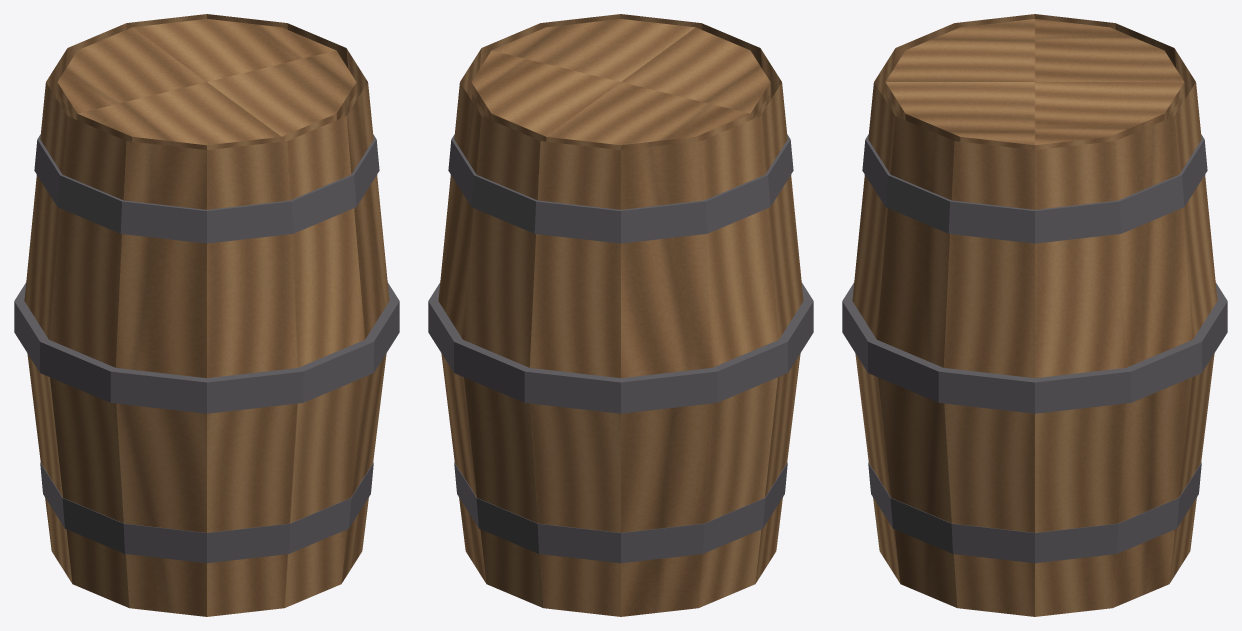
Rendered from Barrel_Western_Wooden.fbx.
The picture shows the model from 3 angles, left to right: view 1: azimuth 30°, elevation 25°; view 2: azimuth 150°, elevation 25°; view 3: azimuth 270°, elevation 25°; orthographic projection.
Parts seen in each view (by area): view 1: Barrel_Western_Wooden_Body_Staves, Barrel_Western_Wooden_Lid_Top, Barrel_Western_Wooden_Hoop_Mid, Barrel_Western_Wooden_Hoop_Top, Barrel_Western_Wooden_Hoop_Bottom; view 2: Barrel_Western_Wooden_Body_Staves, Barrel_Western_Wooden_Lid_Top, Barrel_Western_Wooden_Hoop_Mid, Barrel_Western_Wooden_Hoop_Top, Barrel_Western_Wooden_Hoop_Bottom; view 3: Barrel_Western_Wooden_Body_Staves, Barrel_Western_Wooden_Lid_Top, Barrel_Western_Wooden_Hoop_Mid, Barrel_Western_Wooden_Hoop_Top, Barrel_Western_Wooden_Hoop_Bottom.
Part boxes in pixels (<box>): Barrel_Western_Wooden_Body_Staves: <box>24,14,389,616</box>; Barrel_Western_Wooden_Lid_Top: <box>57,19,356,149</box>; Barrel_Western_Wooden_Hoop_Mid: <box>14,282,399,413</box>; Barrel_Western_Wooden_Hoop_Top: <box>34,134,379,243</box>; Barrel_Western_Wooden_Hoop_Bottom: <box>40,462,373,563</box>; Barrel_Western_Wooden_Body_Staves: <box>438,14,803,616</box>; Barrel_Western_Wooden_Lid_Top: <box>471,19,770,149</box>; Barrel_Western_Wooden_Hoop_Mid: <box>428,282,813,413</box>; Barrel_Western_Wooden_Hoop_Top: <box>448,134,793,243</box>; Barrel_Western_Wooden_Hoop_Bottom: <box>454,462,787,563</box>; Barrel_Western_Wooden_Body_Staves: <box>852,14,1217,616</box>; Barrel_Western_Wooden_Lid_Top: <box>885,19,1184,149</box>; Barrel_Western_Wooden_Hoop_Mid: <box>842,282,1227,413</box>; Barrel_Western_Wooden_Hoop_Top: <box>862,134,1207,243</box>; Barrel_Western_Wooden_Hoop_Bottom: <box>868,462,1201,563</box>.
Size of the model in its own units: 0.67 by 0.9 by 0.67.
2 materials, 1 textured.
